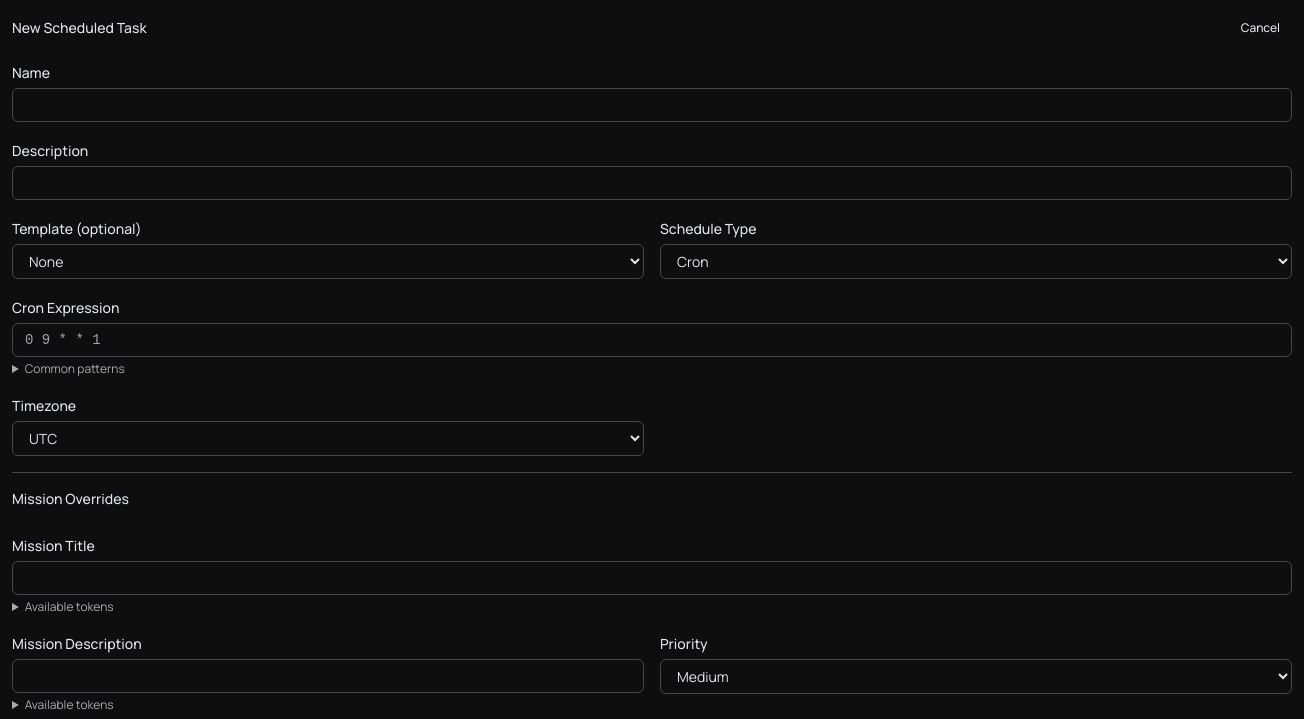
Test: ScheduledTaskForm › shows datetime input when schedule type is once
Select "One-time" in the dropdown with test id "st-schedule-type" at (976, 262), box x1=660 y1=244 x2=1292 y2=279
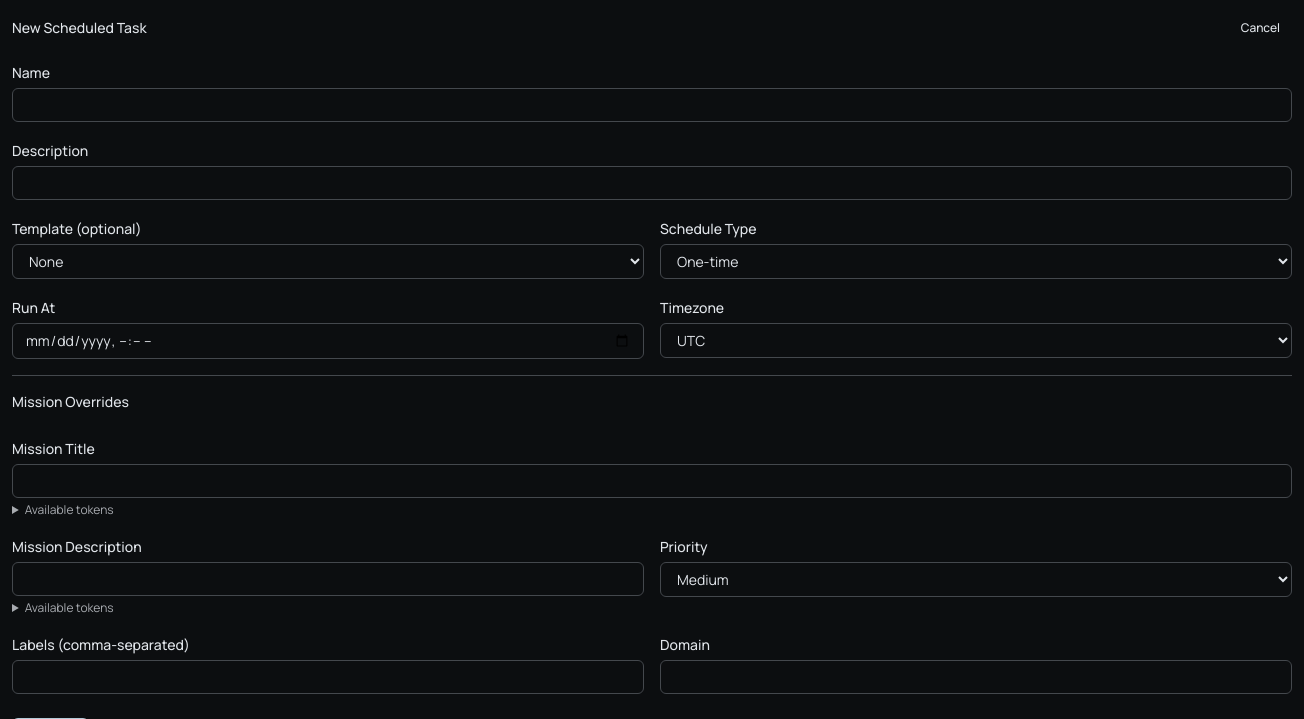
Result: the field with test id "st-scheduled-at" is shown at x1=12 y1=323 x2=644 y2=359
Result: the field with test id "st-cron-expression" is gone
